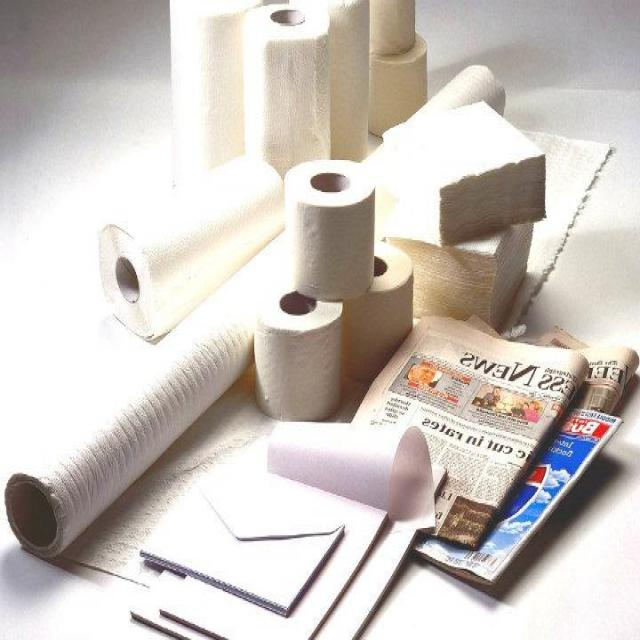Papel: (7, 227, 281, 557)
